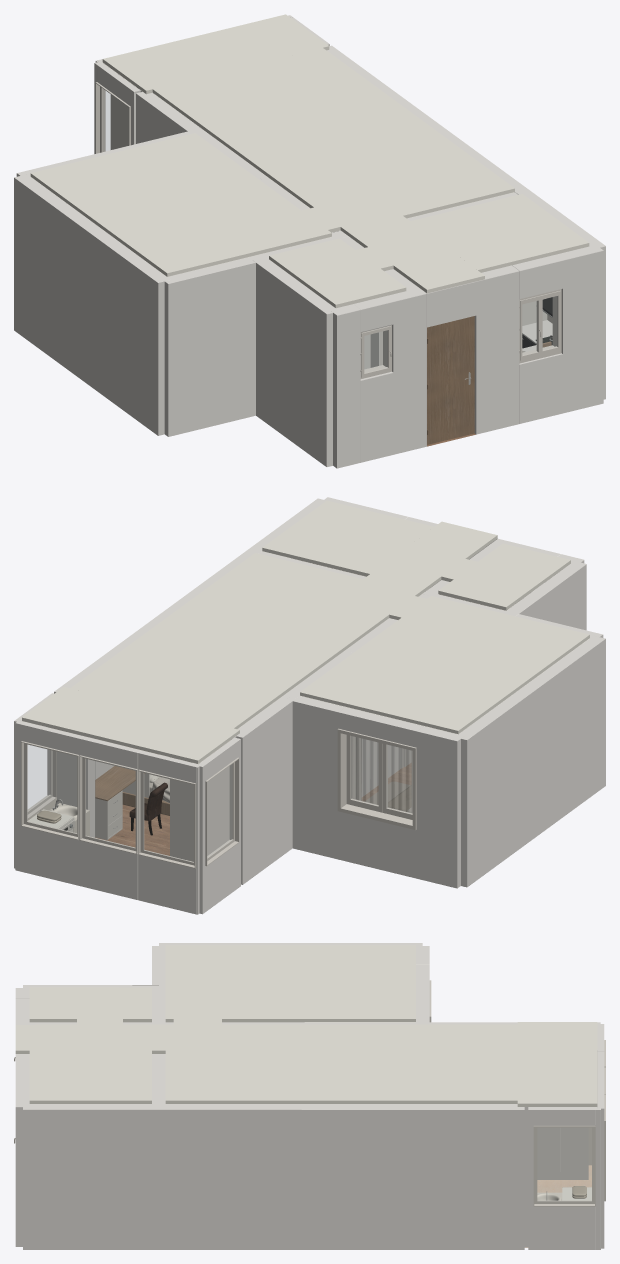
File: apartment-doors-v8.glb
3 renders of one model, top to bottom at view 1: azimuth 30°, elevation 25°; view 2: azimuth 150°, elevation 25°; view 3: azimuth 270°, elevation 25°, orthographic. The views are drawn at different scales.
Parts seen in each view (by area): view 1: Static_bath, Static_master, Ceiling_master, Static_kitchen, Ceiling_second, Ceiling_dining, Ceiling_balcony, Ceiling_kitchen, Static_entry, Ceiling_bath, Ceiling_entry, Static_balcony (+2 smaller); view 2: Static_master, Static_balcony, Ceiling_master, Ceiling_second, Static_second, Ceiling_dining, Ceiling_balcony, Ceiling_kitchen, Ceiling_bath, Static_bath, Ceiling_entry, Static_dining (+1 smaller); view 3: Static_dining, Ceiling_master, Ceiling_second, Static_balcony, Ceiling_dining, Ceiling_balcony, Ceiling_kitchen, Ceiling_bath, Ceiling_entry, Static_kitchen, Static_bath, Static_master (+1 smaller).
Part boxes in pixels (left/top/right/bottom): Static_bath: left=163, top=235, right=426, bottom=468; Static_master: left=14, top=130, right=331, bottom=435; Ceiling_master: left=30, top=133, right=340, bottom=276; Static_kitchen: left=407, top=192, right=603, bottom=434; Ceiling_second: left=152, top=48, right=437, bottom=176; Ceiling_dining: left=268, top=132, right=514, bottom=233; Ceiling_balcony: left=102, top=14, right=329, bottom=94; Ceiling_kitchen: left=411, top=194, right=589, bottom=272; Static_entry: left=346, top=234, right=476, bottom=446; Ceiling_bath: left=269, top=238, right=406, bottom=308; Ceiling_entry: left=345, top=216, right=484, bottom=293; Static_balcony: left=94, top=15, right=329, bottom=153; Static_master: left=287, top=636, right=605, bottom=888; Static_balcony: left=14, top=693, right=240, bottom=914; Ceiling_master: left=300, top=596, right=589, bottom=733; Ceiling_second: left=70, top=607, right=345, bottom=728; Static_second: left=95, top=618, right=401, bottom=884; Ceiling_dining: left=182, top=553, right=418, bottom=649; Ceiling_balcony: left=22, top=687, right=239, bottom=763; Ceiling_kitchen: left=262, top=500, right=433, bottom=576; Ceiling_bath: left=438, top=543, right=570, bottom=610; Static_bath: left=423, top=538, right=603, bottom=637; Ceiling_entry: left=363, top=521, right=497, bottom=595; Static_dining: left=54, top=498, right=429, bottom=779; Static_dining: left=23, top=1022, right=524, bottom=1249; Ceiling_master: left=165, top=945, right=415, bottom=1024; Ceiling_second: left=306, top=1024, right=517, bottom=1103; Static_balcony: left=524, top=1022, right=605, bottom=1249; Ceiling_dining: left=165, top=1024, right=305, bottom=1103; Ceiling_balcony: left=517, top=1022, right=597, bottom=1106; Ceiling_kitchen: left=29, top=1050, right=151, bottom=1103; Ceiling_bath: left=29, top=987, right=151, bottom=1024; Ceiling_entry: left=15, top=1024, right=165, bottom=1053; Static_kitchen: left=14, top=1054, right=165, bottom=1246; Static_bath: left=14, top=946, right=165, bottom=1061; Static_master: left=159, top=943, right=431, bottom=1024.
Bounding box in the file's own units: 6.93 × 2.78 × 10.34.
64 materials, 22 textured.
